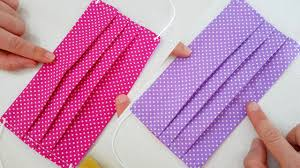cloth_mask: (1, 1, 173, 168)
